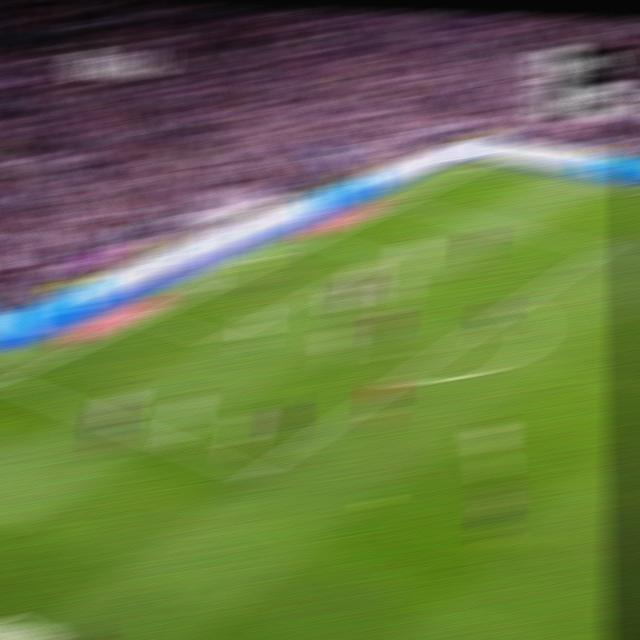bigarea_bottom_inner: (241, 463, 270, 489)
bigarea_bottom_outter: (0, 371, 19, 389)
bigarea_top_inner: (589, 239, 615, 257)
bigarea_top_outter: (388, 195, 413, 209)
bottom_arc_area_intersection: (385, 370, 412, 390)
corner: (470, 159, 497, 170)
smallarea_top_inner: (369, 248, 395, 265)
top_arc_area_intersection: (506, 292, 531, 311)
